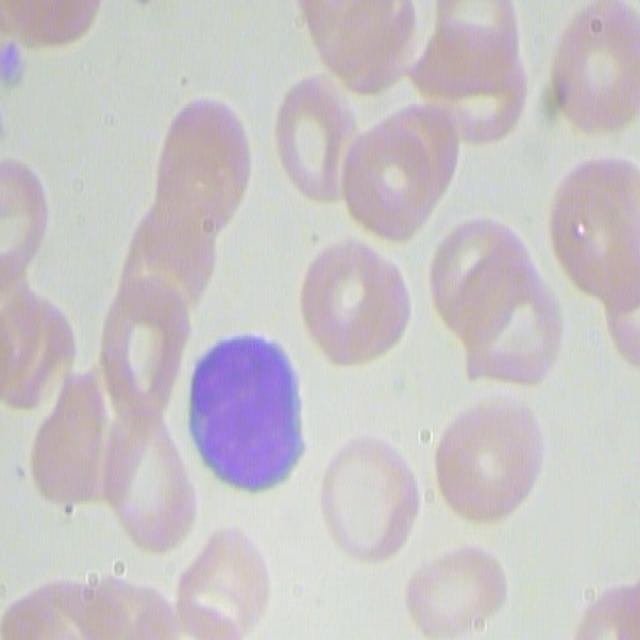RBC: (436, 205, 561, 392), (404, 0, 526, 149), (338, 96, 454, 247), (296, 232, 414, 368), (431, 383, 544, 525), (153, 89, 254, 227), (30, 369, 130, 508), (546, 148, 638, 299), (98, 273, 188, 427), (310, 432, 414, 564), (101, 421, 196, 557), (544, 4, 637, 139), (164, 524, 272, 638), (271, 71, 358, 209), (300, 0, 414, 96), (406, 530, 508, 637), (81, 554, 207, 640), (0, 286, 67, 422), (2, 575, 103, 640), (0, 153, 48, 280), (0, 0, 108, 48), (134, 207, 210, 271), (569, 573, 640, 639), (601, 262, 640, 373)
WBC: (194, 345, 322, 500)
platelets: (0, 37, 25, 91)
